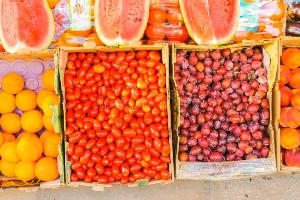orange: (0, 60, 60, 180)
tomato: (58, 50, 170, 180)
